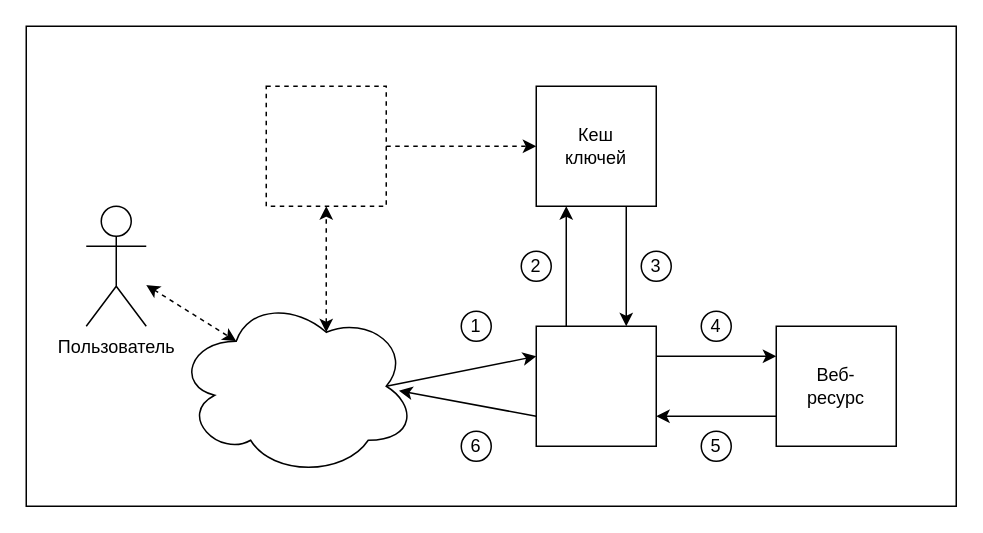
The diagram is 983 pixels wide and 533 high, and some of its shapes have lost their labels. The centre of each missing label's shape, as x and y in pixels:
Прокси-сервер: the point at 595,385
Система аутентификации: the point at 295,385
Система управления кешем: the point at 325,145
